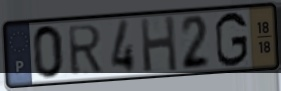0: (31, 24, 67, 81)
2: (178, 13, 212, 72)
4: (109, 17, 137, 77)
G: (213, 10, 250, 69)
H: (138, 13, 180, 74)
R: (66, 23, 105, 78)
